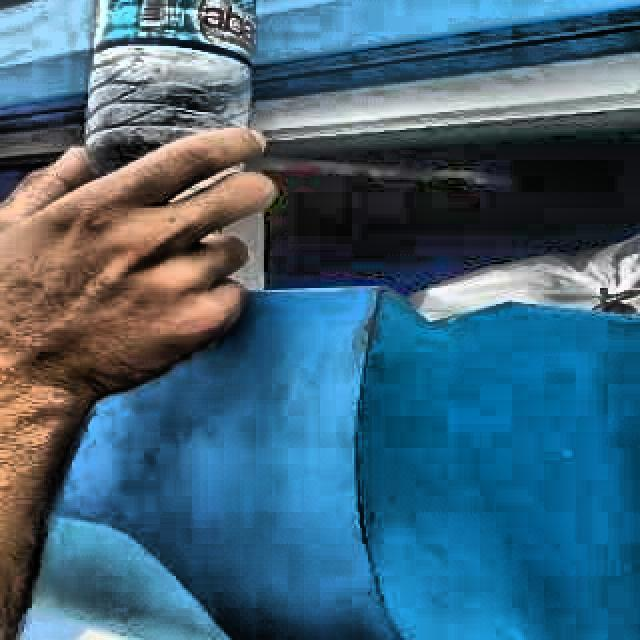plastic: (85, 0, 252, 175)
